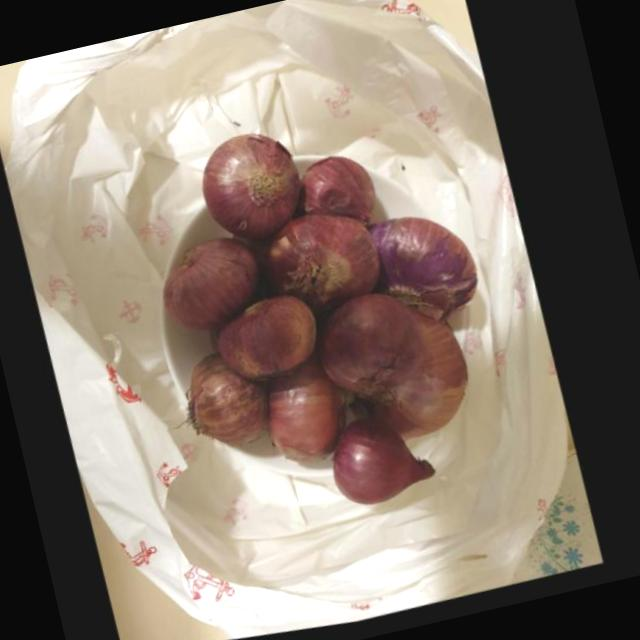vo_rau_cu: (379, 313, 475, 440), (374, 219, 485, 325), (326, 296, 434, 396), (207, 138, 305, 244), (273, 218, 385, 309), (169, 242, 265, 336), (341, 423, 442, 509), (225, 299, 323, 385), (274, 361, 351, 464), (195, 357, 276, 450), (308, 159, 380, 228)
